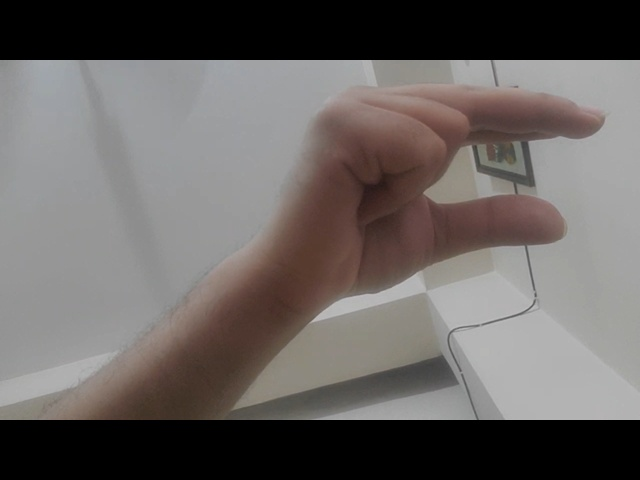No: (239, 73, 626, 302)
